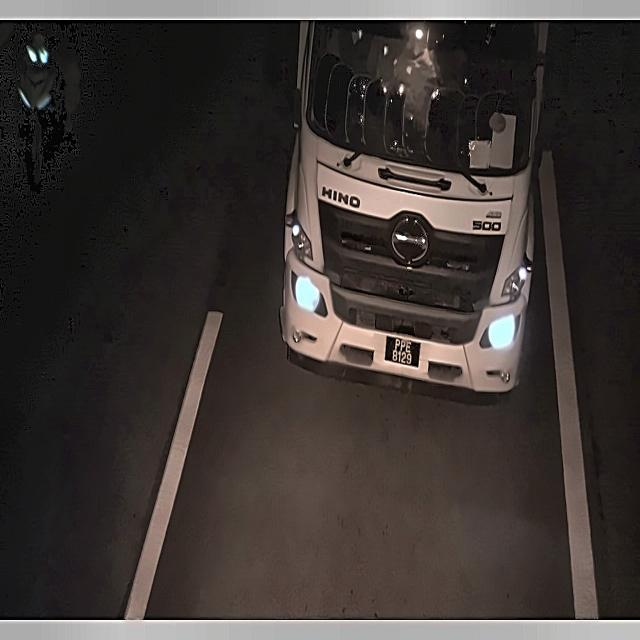car: (383, 331, 423, 376)
